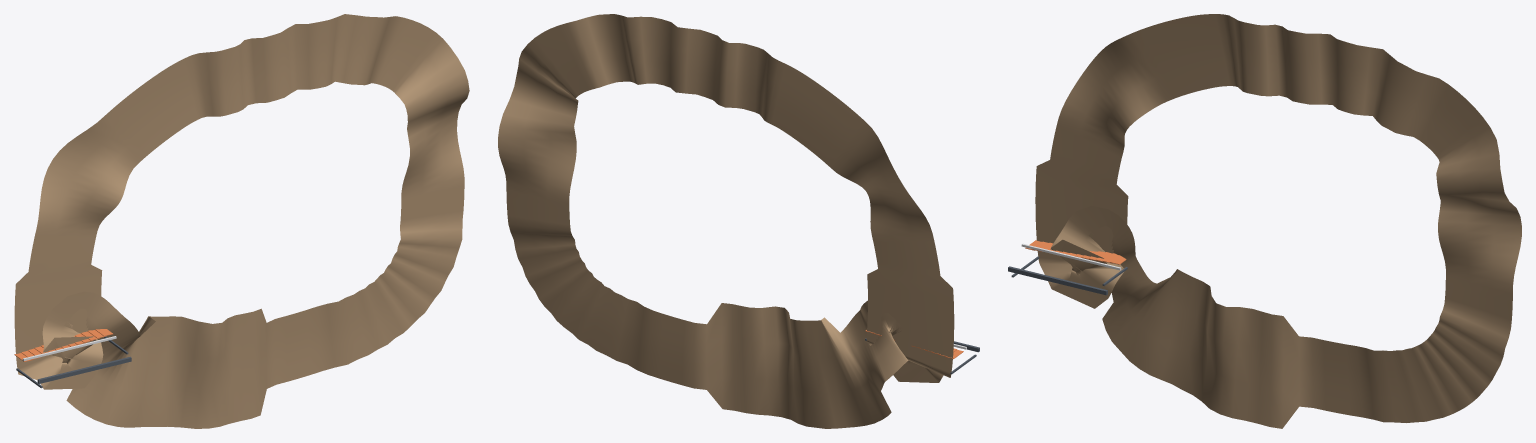
File: track.glb
3 views of the same model, side by side, from view 1: azimuth 30°, elevation 25°; view 2: azimuth 150°, elevation 25°; view 3: azimuth 330°, elevation 25° (orthographic). The views are drawn at different scales.
Visible parts, largest first — view 1: track, timing_bar; view 2: track; view 3: track, timing_bar.
Part boxes in pixels (bbox=[...]): track: bbox=[14, 14, 469, 428]; timing_bar: bbox=[37, 356, 131, 383]; track: bbox=[498, 14, 954, 428]; track: bbox=[1035, 14, 1521, 428]; timing_bar: bbox=[1008, 266, 1107, 295].
Size of the model in its own units: 44.38 by 35.45 by 5.95.
